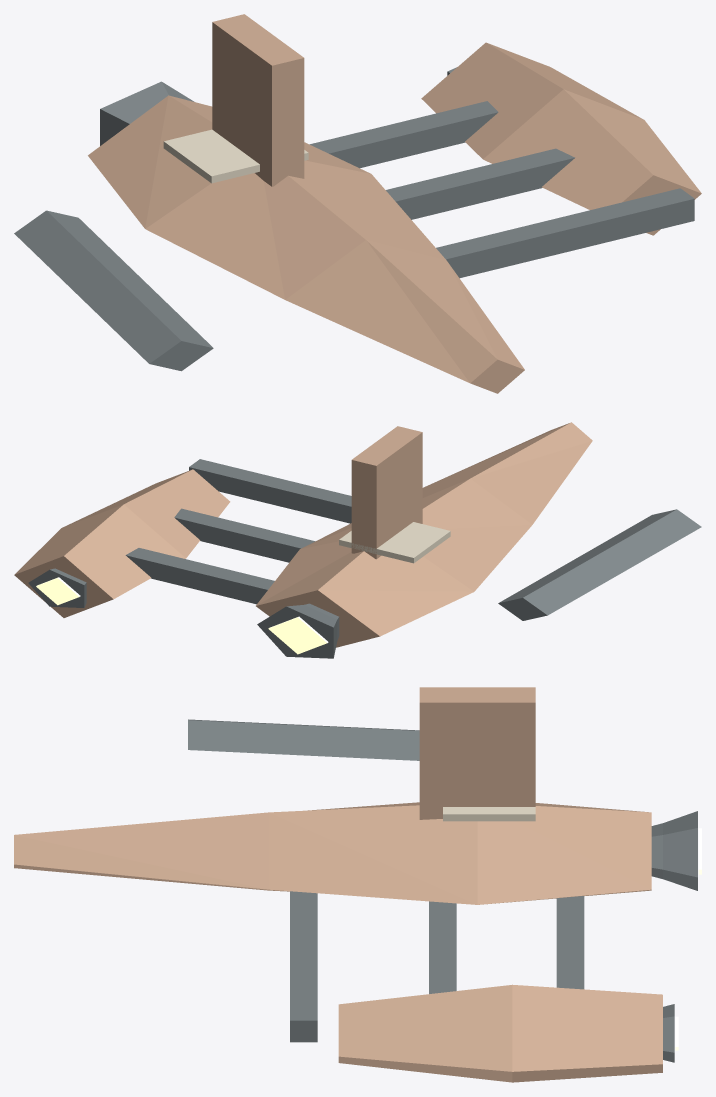
The picture shows the model from 3 angles, top to bottom: view 1: azimuth 30°, elevation 25°; view 2: azimuth 150°, elevation 25°; view 3: azimuth 270°, elevation 25°; orthographic projection. The views are drawn at different scales.
Bounding box in the file's own units: 11.01 × 3.85 × 10.22.
